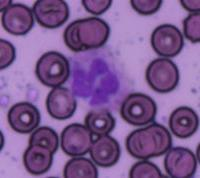N: (66, 47, 132, 112)
